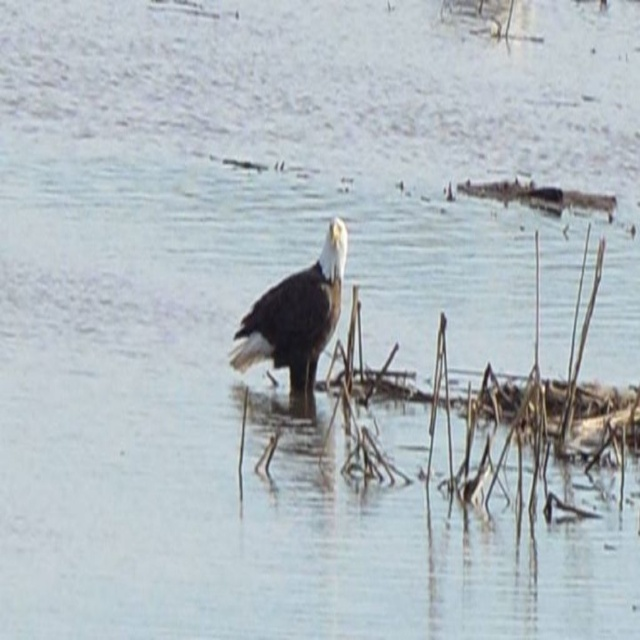Eagle: (228, 212, 348, 392)
